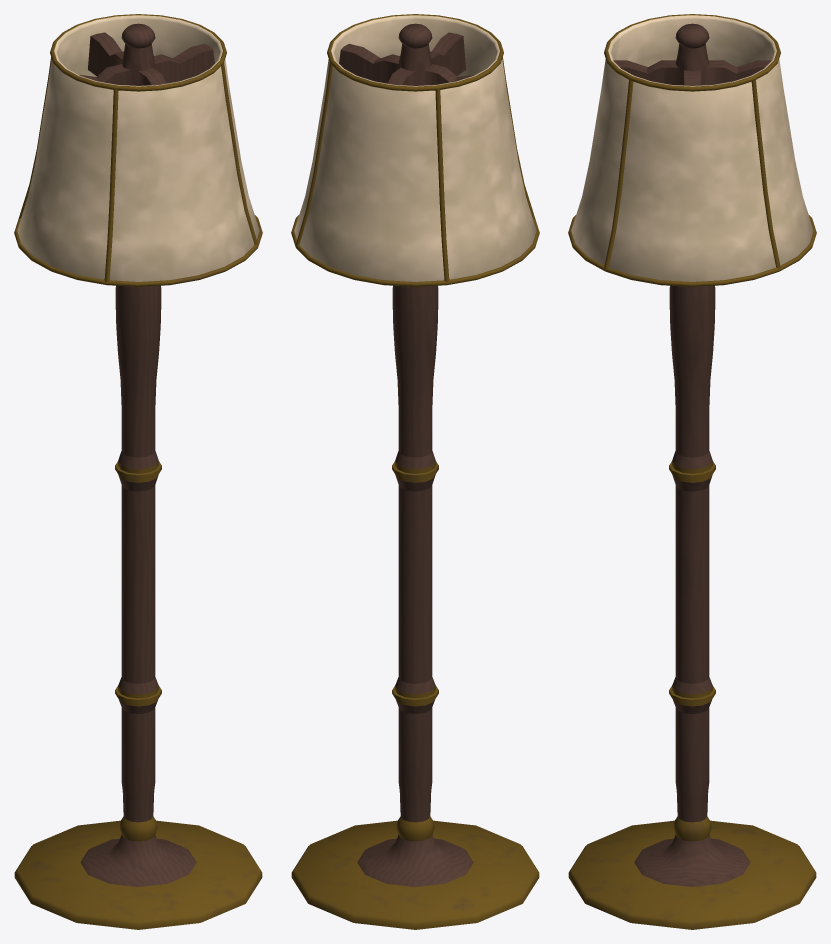
Rendered from bigyo5.obj.
3 views of the same model, side by side, from view 1: azimuth 30°, elevation 25°; view 2: azimuth 150°, elevation 25°; view 3: azimuth 270°, elevation 25° (orthographic).
Parts seen in each view (by area): view 1: Cylinder.005, Cylinder.004, Cylinder.007, Cylinder.006; view 2: Cylinder.005, Cylinder.004, Cylinder.007, Cylinder.006; view 3: Cylinder.005, Cylinder.004, Cylinder.007, Cylinder.006.
Part boxes in pixels (left/top/right/bottom): Cylinder.005: left=17, top=15, right=259, bottom=281; Cylinder.004: left=78, top=23, right=214, bottom=886; Cylinder.007: left=14, top=461, right=262, bottom=929; Cylinder.006: left=14, top=14, right=262, bottom=286; Cylinder.005: left=294, top=15, right=536, bottom=281; Cylinder.004: left=339, top=23, right=475, bottom=886; Cylinder.007: left=291, top=461, right=539, bottom=929; Cylinder.006: left=291, top=14, right=539, bottom=286; Cylinder.005: left=571, top=15, right=813, bottom=281; Cylinder.004: left=613, top=23, right=771, bottom=886; Cylinder.007: left=568, top=461, right=816, bottom=929; Cylinder.006: left=568, top=14, right=816, bottom=286.
Size of the model in its own units: 0.9934 by 3.74 by 0.9934.
1 material, 1 textured.
